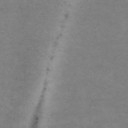finishing roll printing: (50, 4, 72, 62), (30, 78, 50, 128), (46, 67, 50, 71)
